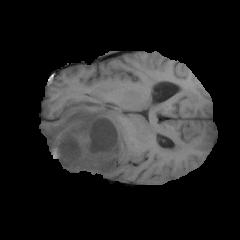glioma: (44, 104, 128, 173)
